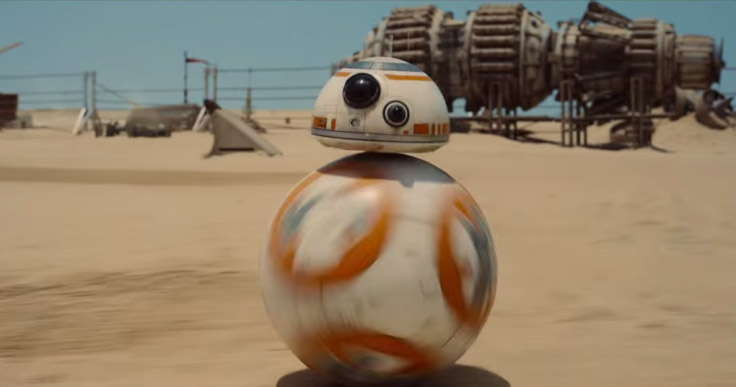bb8: (261, 55, 498, 385)
